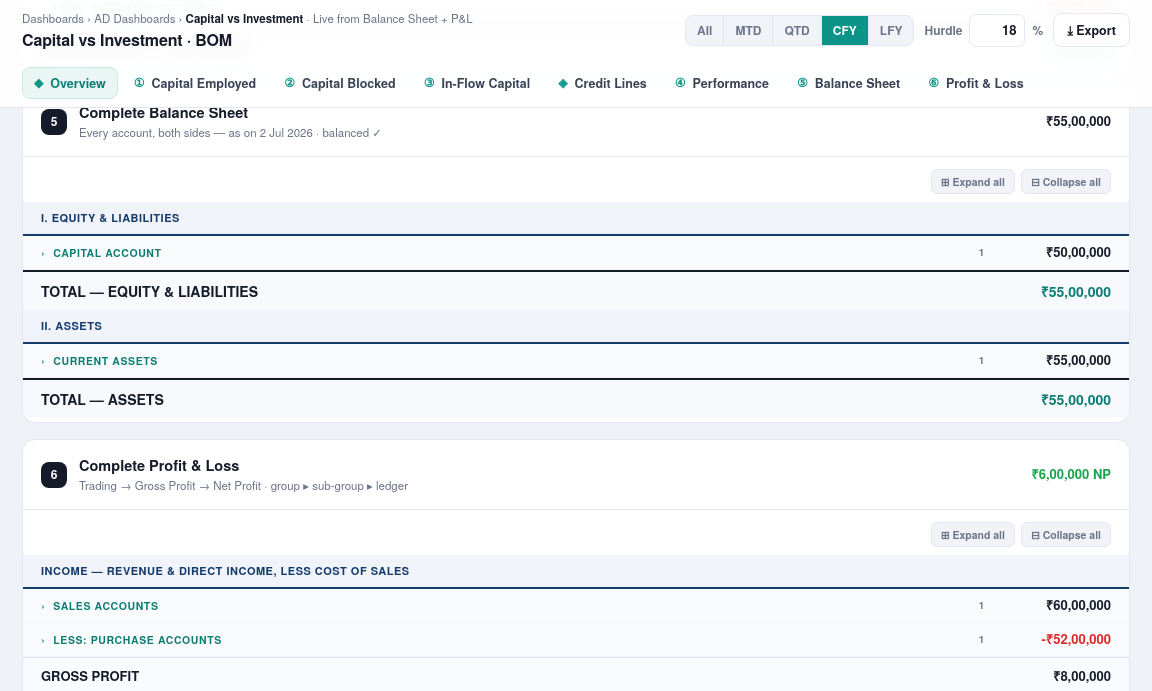
Test: nested ledgers stay hidden until each level (top group ▸ sub-group) is expanded
(page scrolled)
Expected: the text "Bank HDFC" is not shown
Expected: the text "Bank Accounts" is not shown
Click the text "Current Assets". click: click(106, 361)
box: [53,353,158,368]
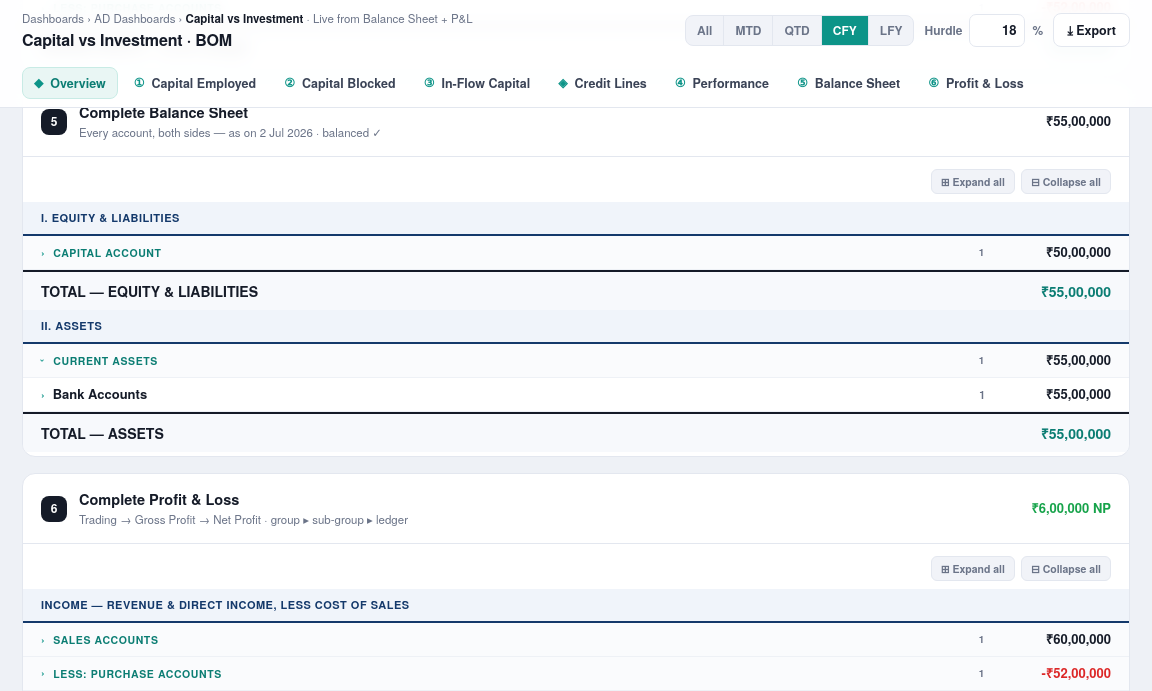
Click the text "Bank Accounts". click: click(100, 394)
box: [53,384,147,403]
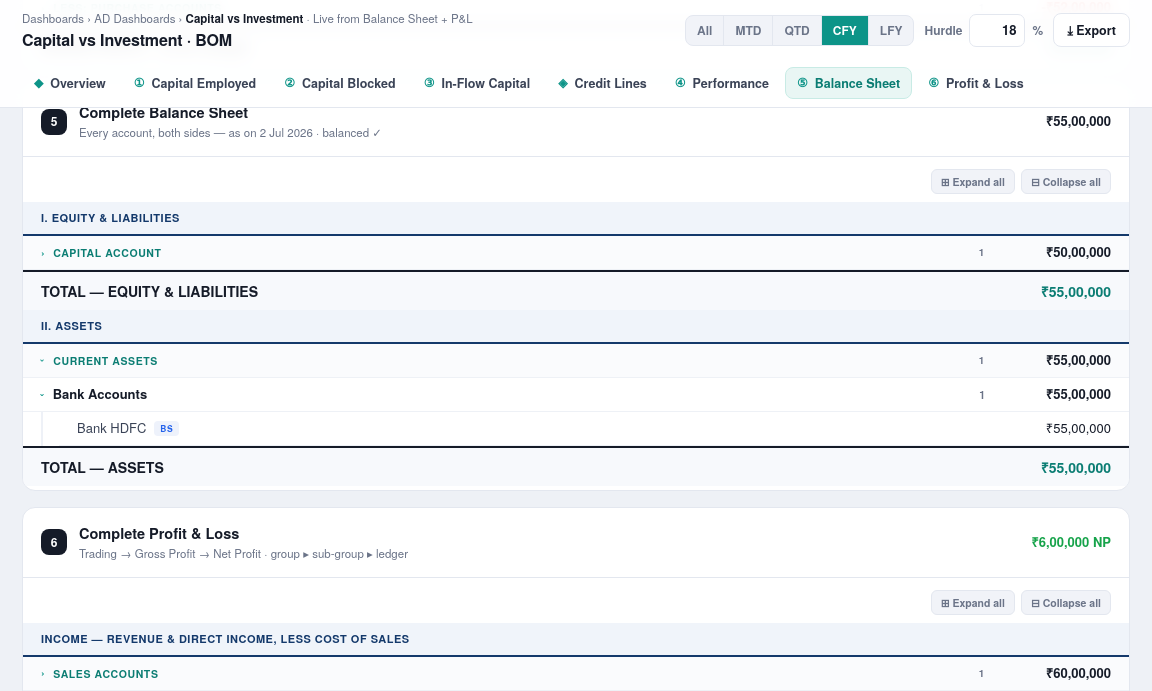
Now the text "Bank HDFC" is shown, box [77,418,146,437]
